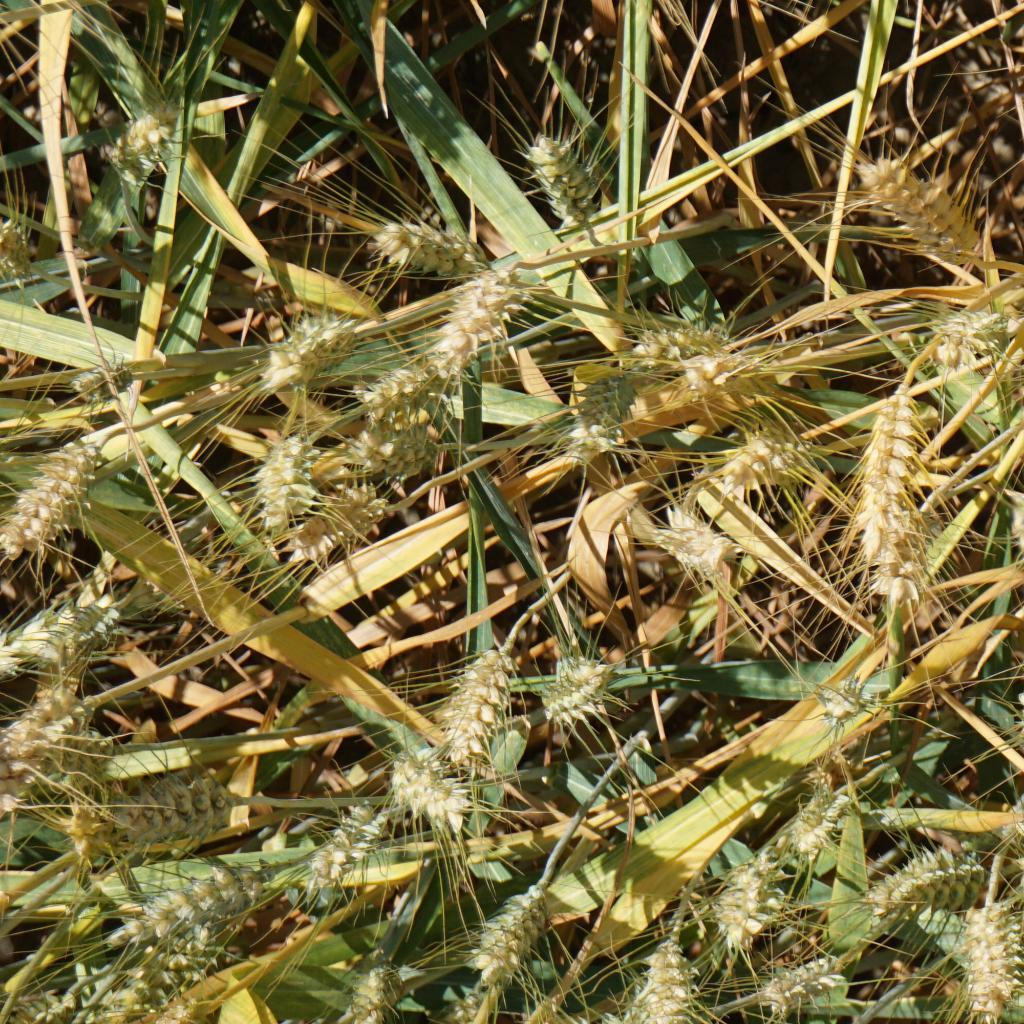0-0: (0, 442, 112, 571), (854, 152, 987, 254), (86, 773, 247, 854), (849, 838, 997, 921), (291, 803, 404, 903), (3, 695, 102, 804), (851, 387, 911, 564), (101, 93, 198, 202), (428, 636, 517, 753), (519, 135, 604, 248), (275, 487, 397, 565), (708, 845, 793, 950), (0, 591, 115, 668), (329, 414, 459, 482), (468, 877, 556, 975), (640, 316, 749, 393), (534, 645, 625, 735), (428, 268, 523, 352), (378, 751, 472, 835), (709, 422, 810, 497), (927, 297, 1018, 380), (126, 871, 257, 925), (243, 312, 351, 376), (354, 356, 455, 420), (879, 513, 940, 618), (247, 428, 314, 520), (757, 952, 849, 1018), (361, 223, 476, 275), (137, 924, 220, 996), (649, 512, 731, 579), (640, 938, 701, 1024), (972, 905, 1022, 1009), (41, 793, 112, 863), (342, 952, 411, 1024), (779, 780, 853, 847), (65, 355, 144, 409), (41, 729, 131, 776), (810, 676, 877, 736), (566, 367, 628, 429), (451, 969, 503, 1024), (0, 224, 47, 277)
